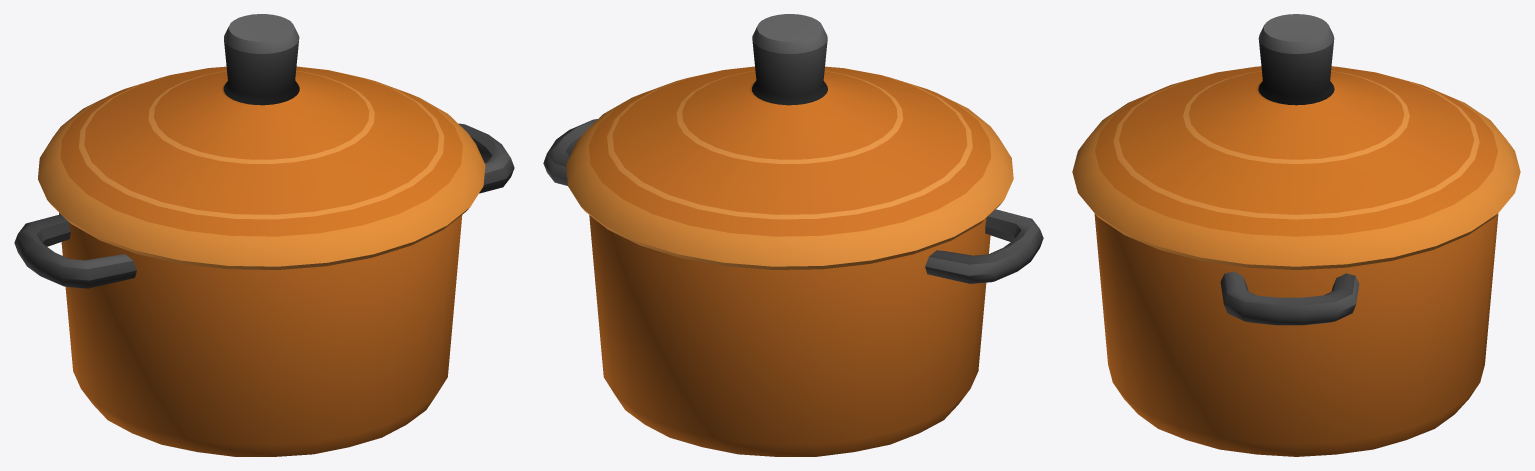
The model's file is Pan_12.fbx.
The picture shows the model from 3 angles, left to right: view 1: azimuth 30°, elevation 25°; view 2: azimuth 150°, elevation 25°; view 3: azimuth 270°, elevation 25°; orthographic projection.
Visible parts, largest first — view 1: Pan_12 Top, Pan_12; view 2: Pan_12 Top, Pan_12; view 3: Pan_12 Top, Pan_12.
Part boxes in pixels (<box>): Pan_12 Top: <box>38,14,485,269</box>; Pan_12: <box>14,123,514,456</box>; Pan_12 Top: <box>566,14,1013,269</box>; Pan_12: <box>543,119,1043,456</box>; Pan_12 Top: <box>1072,14,1520,269</box>; Pan_12: <box>1094,213,1498,456</box>.
Size of the model in its own units: 0.2465 by 0.1788 by 0.2049.
1 material, 1 textured.
